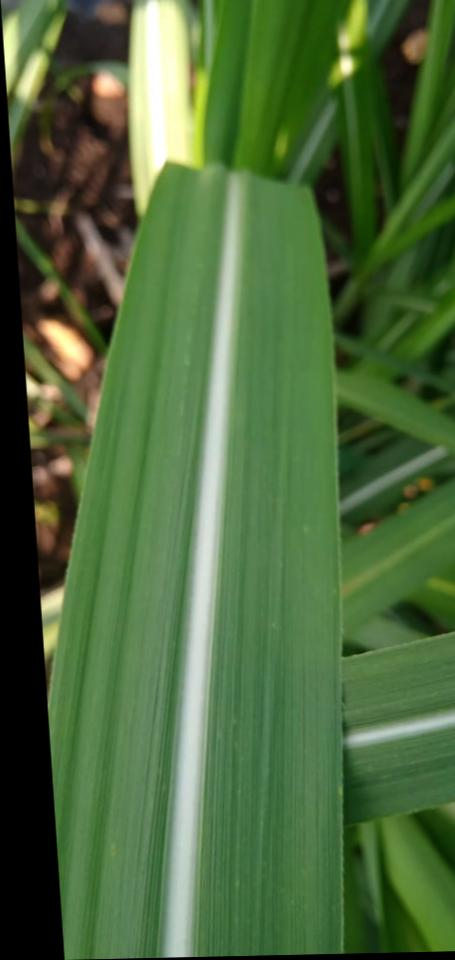Healthy: (47, 166, 341, 959), (341, 633, 455, 823)
